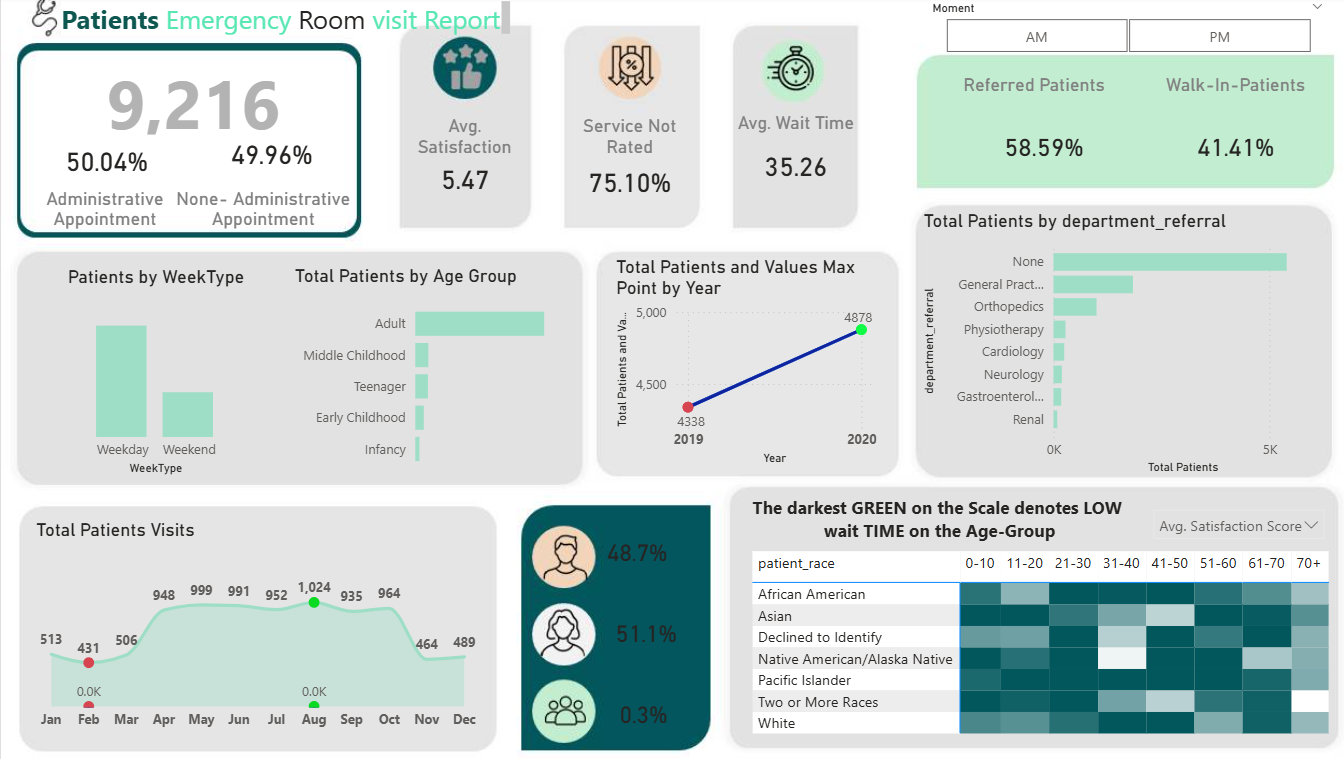

This screenshot's page, from the dashboard's own definition file:
{"tool":"powerbi","page":{"name":"Page 1","canvas":[1280,720],"ordinal":0},"visuals":[{"type":"card","fields":{"Values":["Calculations.Total Patients"]},"box":[78.4,59.1,202.7,74.8],"z":0},{"type":"card","fields":{"Values":["Calculations.% Adminstrative Schedule"]},"box":[50.7,124.3,94.1,59.1],"z":1000},{"type":"card","fields":{"Values":["Calculations.% None - Adminstrative Schedule"]},"box":[194.2,120.6,115.8,53.1],"z":2000},{"type":"pivotTable","fields":{"Values":["Calculations.Average Satisfaction Score"],"Rows":["Patients Dataset.patient_race"],"Columns":["Patients Dataset.Age Buckets"]},"box":[693.7,511.5,556.2,179.8],"z":3000},{"type":"slicer","fields":{"Values":["Parameter.Parameter"]},"box":[1061.7,466.9,179.8,55.5],"z":4000},{"type":"barChart","fields":{"Category":["Patients Dataset.Age Group"],"Y":["Calculations.Total Patients"]},"box":[269,249.7,257,200.3],"z":5000},{"type":"lineChart","title":"Total Patients Visits","fields":{"Category":["Date.Month"],"Y":["Calculations.Total Patients","Calculations.CF Max Point(Month)"]},"box":[27.7,486.2,422.3,205.1],"z":6000},{"type":"lineChart","title":"Total Patients and Values Max Point  by Year","fields":{"Y":["Calculations.Total Patients","Calculations.Values Max Point (Year)"],"Category":["Date.Year"]},"box":[567,241.3,252.1,199.1],"z":7000},{"type":"clusteredBarChart","fields":{"Y":["Calculations.Total Patients"],"Category":["Patients Dataset.department_referral"]},"box":[853,199.1,378.8,250.9],"z":8000},{"type":"card","fields":{"Values":["Calculations.% Un Referred Patients"]},"box":[879.5,112.2,182.2,56.7],"z":9000},{"type":"card","fields":{"Values":["Calculations.%  Referred Patients"]},"box":[1066.5,112.2,165.3,56.7],"z":10000},{"type":"card","fields":{"Values":["Calculations.HitMap Caption"]},"box":[676.8,450,393.3,72.4],"z":11000},{"type":"textbox","box":[27.7,173.7,137.5,49.5],"z":12000},{"type":"textbox","box":[153.2,173.7,181,48.3],"z":13000},{"type":"card","title":"Avg. Satisfaction","fields":{"Values":["Calculations.Average Satisfaction Score"]},"box":[369.2,111,125.5,82],"z":14000},{"type":"card","title":"Service Not Rated","fields":{"Values":["Calculations.% No Rating"]},"box":[520,111,130.3,86.9],"z":15000},{"type":"card","title":"Avg. Wait Time","fields":{"Values":["Calculations.Average Wait Time"]},"box":[676.8,108.6,125.5,82],"z":16000},{"type":"textbox","box":[879.5,67.6,164.1,43.4],"z":17000},{"type":"textbox","box":[1061.7,67.6,173.7,43.4],"z":18000},{"type":"columnChart","title":" Patients by WeekType","fields":{"Category":["Date.WeekType"],"Y":["Calculations.Total Patients"]},"box":[27.7,250.9,232.8,199.1],"z":19000},{"type":"card","fields":{"Values":["Calculations.% Female Visit"]},"box":[544.1,486.2,95.3,62.7],"z":20000},{"type":"card","fields":{"Values":["Calculations.% Male Visit"]},"box":[550.1,558.6,100.1,70],"z":21000},{"type":"card","fields":{"Values":["Calculations.% Unknown"]},"box":[545.3,628.6,105,78.4],"z":22000},{"type":"slicer","fields":{"Values":["Patients Dataset.Moment"]},"box":[853,0,388.5,59.1],"z":23000},{"type":"textbox","box":[50.7,0,427.1,41],"z":24000}]}

Visuals, with their boxes in screenshot pixels (x1, y1, x2, y2), scaled from the page's 1280x720 canvas onto the 1344x759 screenshot:
card - Calculations.Total Patients: <region>82, 62, 295, 141</region>
card - Calculations.% Adminstrative Schedule: <region>53, 131, 152, 193</region>
card - Calculations.% None - Adminstrative Schedule: <region>204, 127, 326, 183</region>
pivotTable - Calculations.Average Satisfaction Score x Patients Dataset.patient_race: <region>728, 539, 1312, 729</region>
slicer - Parameter.Parameter: <region>1115, 492, 1304, 551</region>
barChart - Patients Dataset.Age Group x Calculations.Total Patients: <region>282, 263, 552, 474</region>
"Total Patients Visits" lineChart: <region>29, 513, 472, 729</region>
"Total Patients and Values Max Point  by Year" lineChart: <region>595, 254, 860, 464</region>
clusteredBarChart - Calculations.Total Patients x Patients Dataset.department_referral: <region>896, 210, 1293, 474</region>
card - Calculations.% Un Referred Patients: <region>923, 118, 1115, 178</region>
card - Calculations.%  Referred Patients: <region>1120, 118, 1293, 178</region>
card - Calculations.HitMap Caption: <region>711, 474, 1124, 551</region>
textbox: <region>29, 183, 173, 235</region>
textbox: <region>161, 183, 351, 234</region>
"Avg. Satisfaction" card: <region>388, 117, 519, 203</region>
"Service Not Rated" card: <region>546, 117, 683, 209</region>
"Avg. Wait Time" card: <region>711, 114, 842, 201</region>
textbox: <region>923, 71, 1096, 117</region>
textbox: <region>1115, 71, 1297, 117</region>
" Patients by WeekType" columnChart: <region>29, 264, 274, 474</region>
card - Calculations.% Female Visit: <region>571, 513, 671, 579</region>
card - Calculations.% Male Visit: <region>578, 589, 683, 663</region>
card - Calculations.% Unknown: <region>573, 663, 683, 745</region>
slicer - Patients Dataset.Moment: <region>896, 0, 1304, 62</region>
textbox: <region>53, 0, 502, 43</region>
